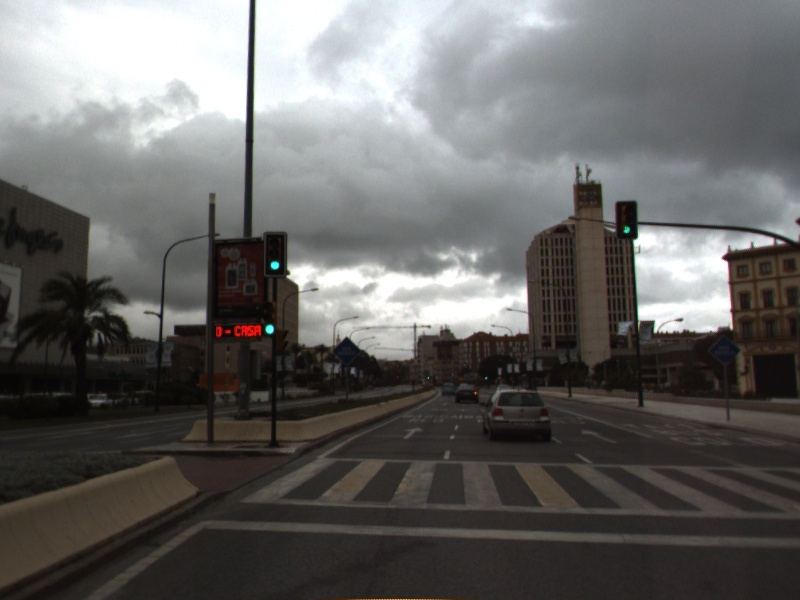STRAIGHT: (579, 426, 619, 446), (400, 425, 426, 441)
